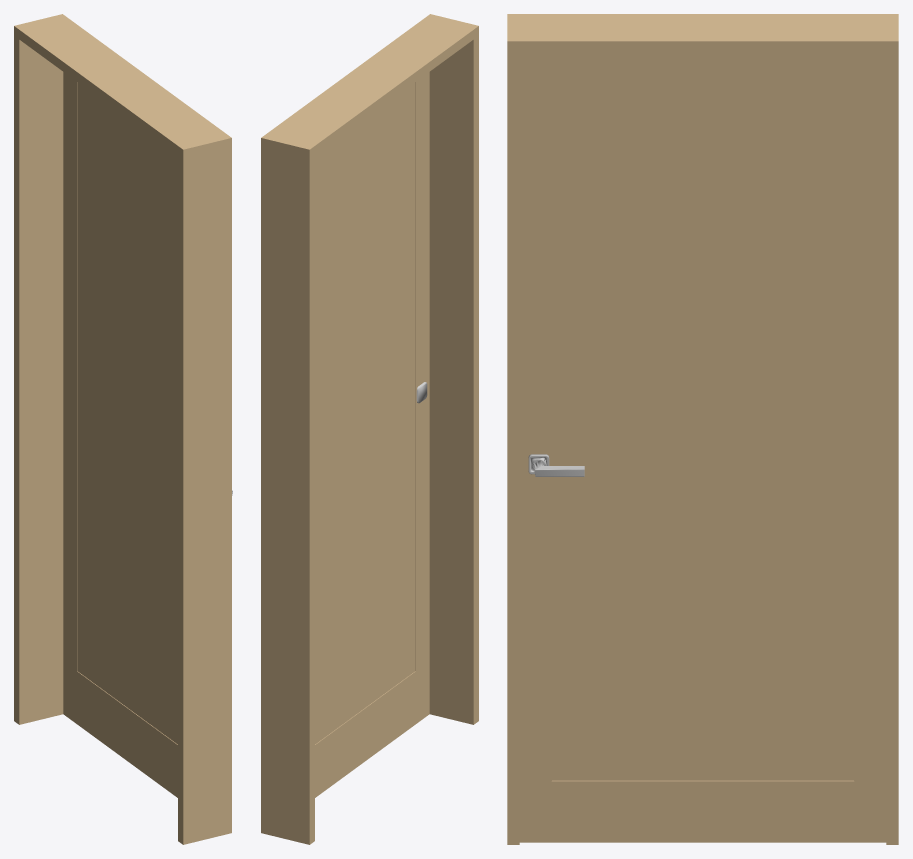
The model's file is door1.fbx.
The picture shows the model from 3 angles, left to right: view 1: azimuth 30°, elevation 25°; view 2: azimuth 150°, elevation 25°; view 3: azimuth 270°, elevation 25°; orthographic projection. The views are drawn at different scales.
Parts seen in each view (by area): view 1: Children_room_OBJ:PivotDoor001; view 2: Children_room_OBJ:PivotDoor001; view 3: Children_room_OBJ:PivotDoor001, Children_room_OBJ:RUCHKA_P18.
Boxes of the visible parts, bbox=[...] form: Children_room_OBJ:PivotDoor001: bbox=[14, 14, 231, 844]; Children_room_OBJ:PivotDoor001: bbox=[261, 14, 478, 844]; Children_room_OBJ:PivotDoor001: bbox=[507, 14, 898, 844]; Children_room_OBJ:RUCHKA_P18: bbox=[528, 454, 584, 476].
Bounding box in the file's own units: 19.79 × 214 × 94.31.
